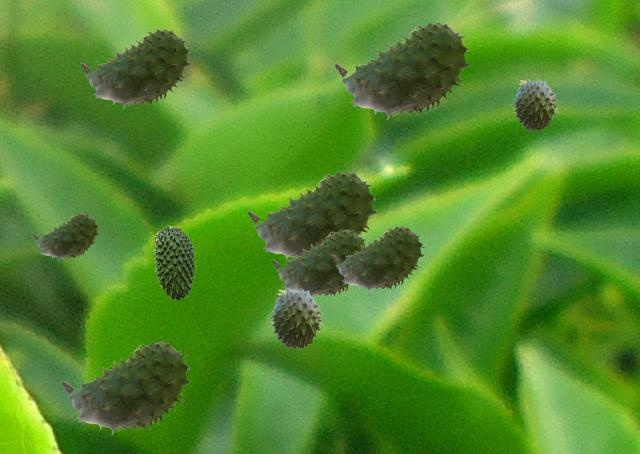guyabano: (334, 22, 469, 119), (61, 341, 190, 434), (247, 171, 376, 259), (80, 29, 190, 108), (271, 229, 367, 298), (331, 226, 423, 292), (267, 287, 327, 348), (153, 225, 195, 300), (32, 213, 98, 260), (510, 78, 561, 130)
